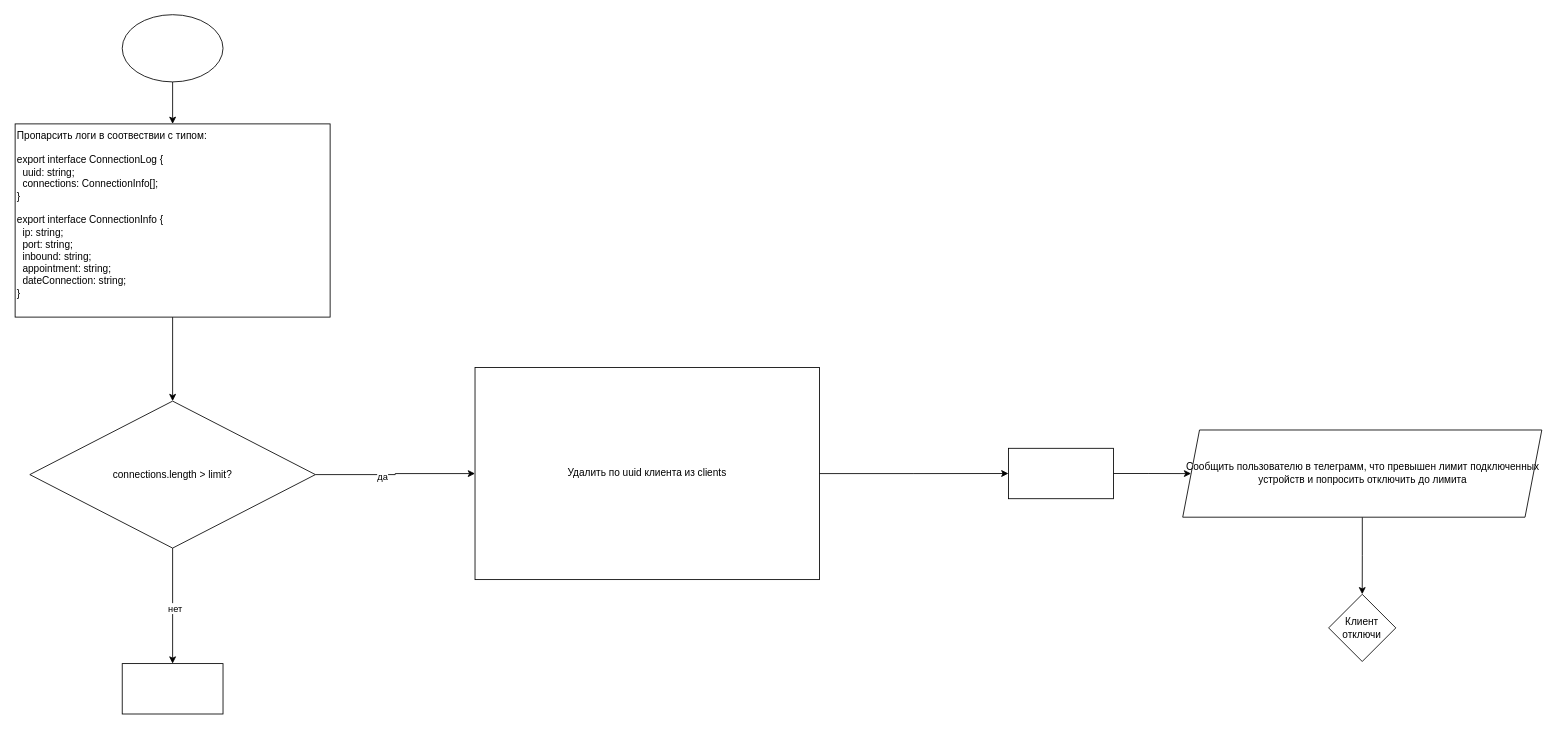
This 1557x729 diagram has some shape labels left out. Here are the shapes that lost their labels. From the top down, the box of each, then its label:
(121, 14, 223, 82): начало
(1008, 447, 1113, 499): Перезагрузить Xray
